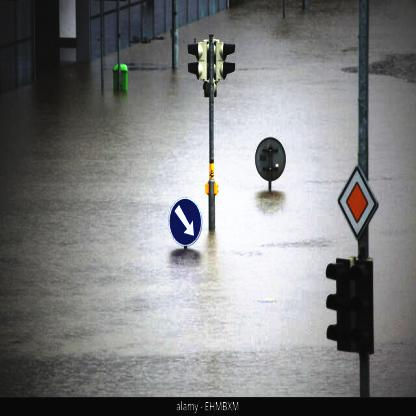Keep right: (166, 193, 205, 249)
